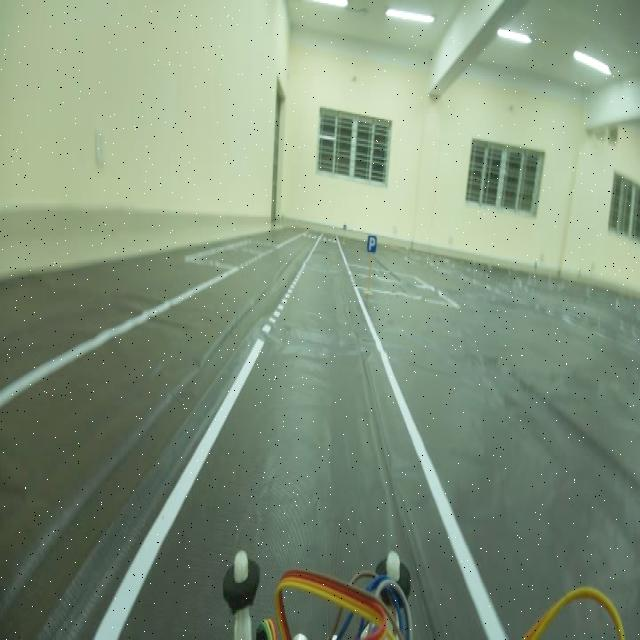parking: (363, 229, 379, 259)
